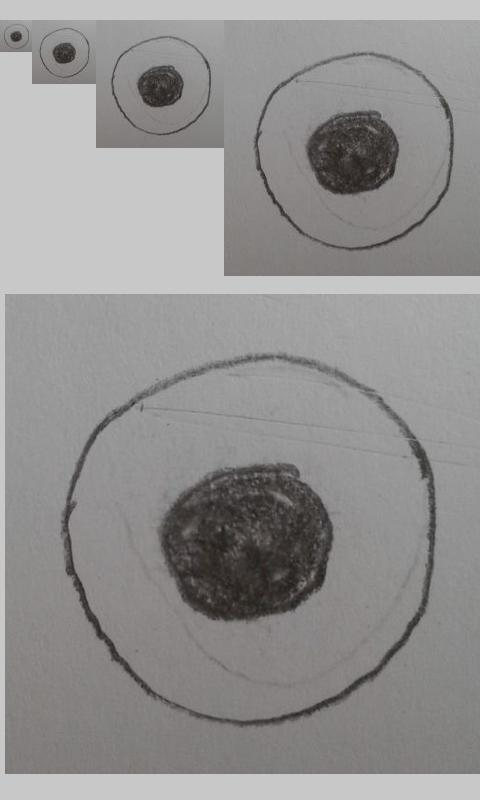radio_button: (55, 347, 440, 730), (252, 49, 456, 252), (109, 34, 213, 137), (39, 27, 91, 79), (3, 23, 30, 50)
